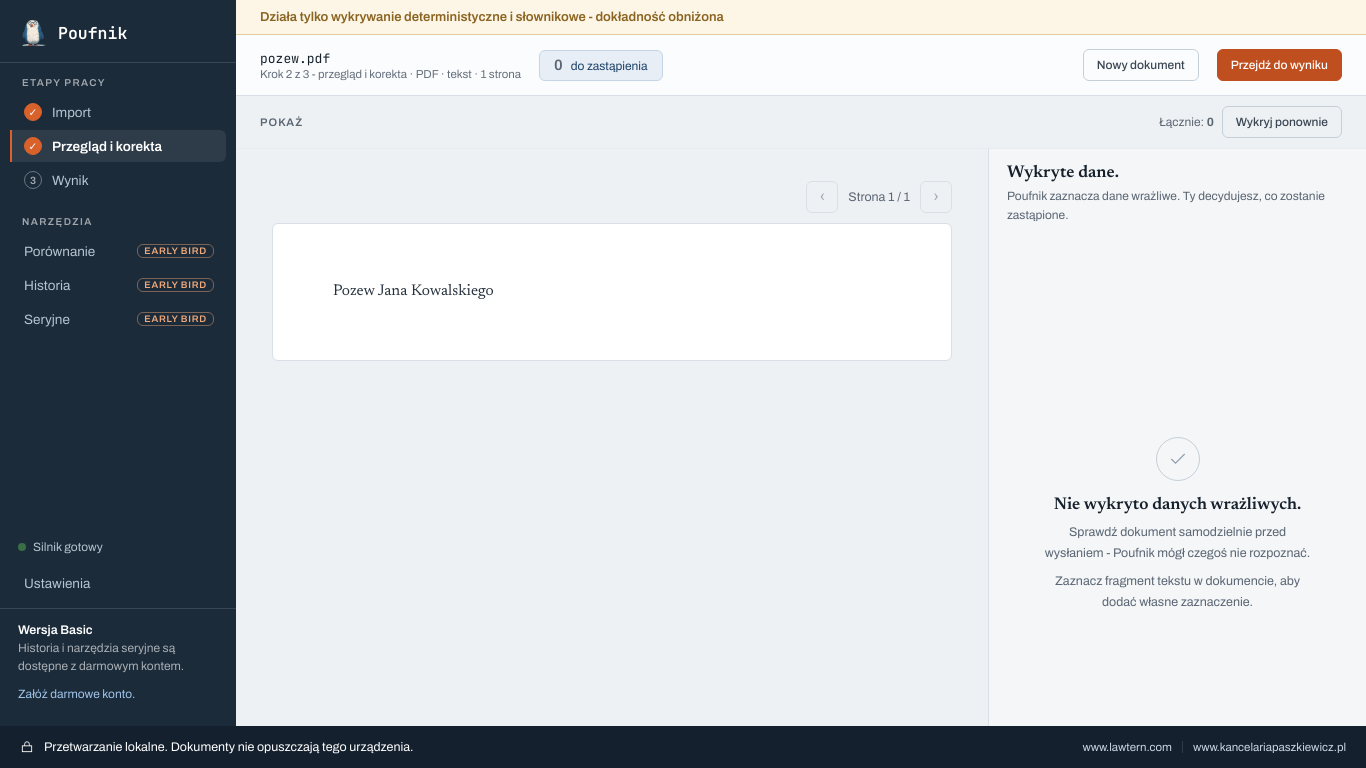
Test: App engine health › falls back to the simplified PDF when the engine could not map the PDF
Step 1. Click the button "3 Wynik" → point(118, 180), box [10,164,226,196]
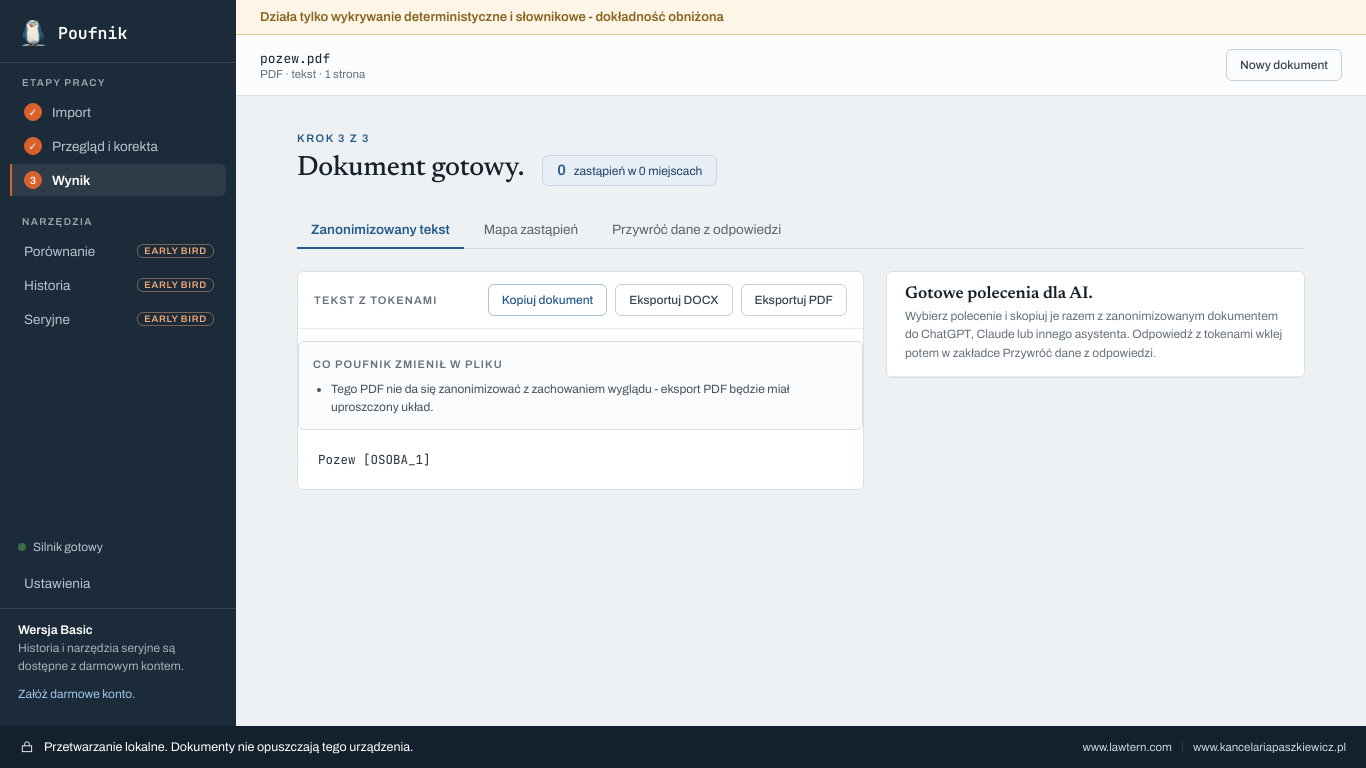
Now the list item "Tego PDF nie da się zanonimizować z zachowaniem wyglądu - eksport PDF będzie miał uproszczony układ." is shown, box [331,382,790,414]
Step 2. Click the button "Eksportuj PDF" → point(794, 300), box [740,284,847,316]
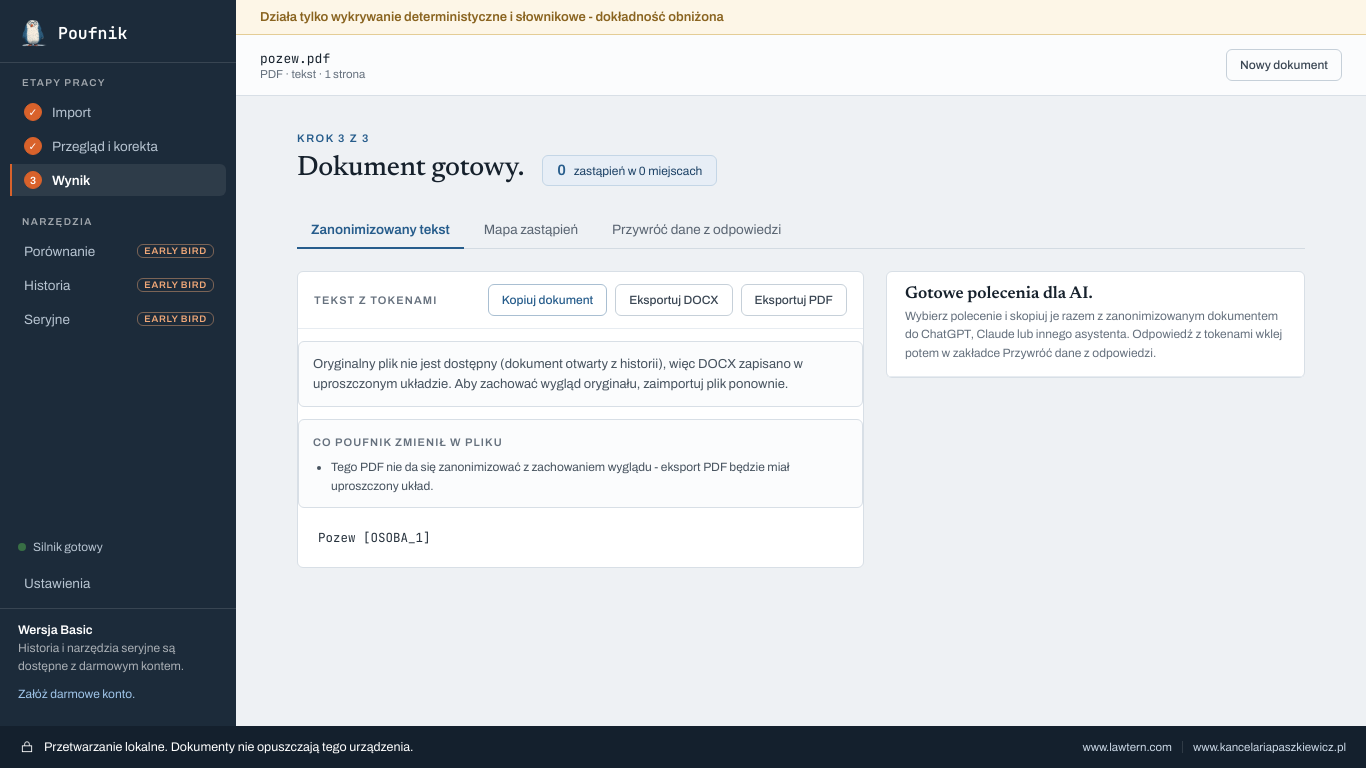
Now the text "Oryginalny plik nie jest dostępny (dokument otwarty z historii), więc DOCX zapisano w uproszczonym układzie. Aby zachowa" is shown, box [313,357,803,391]
